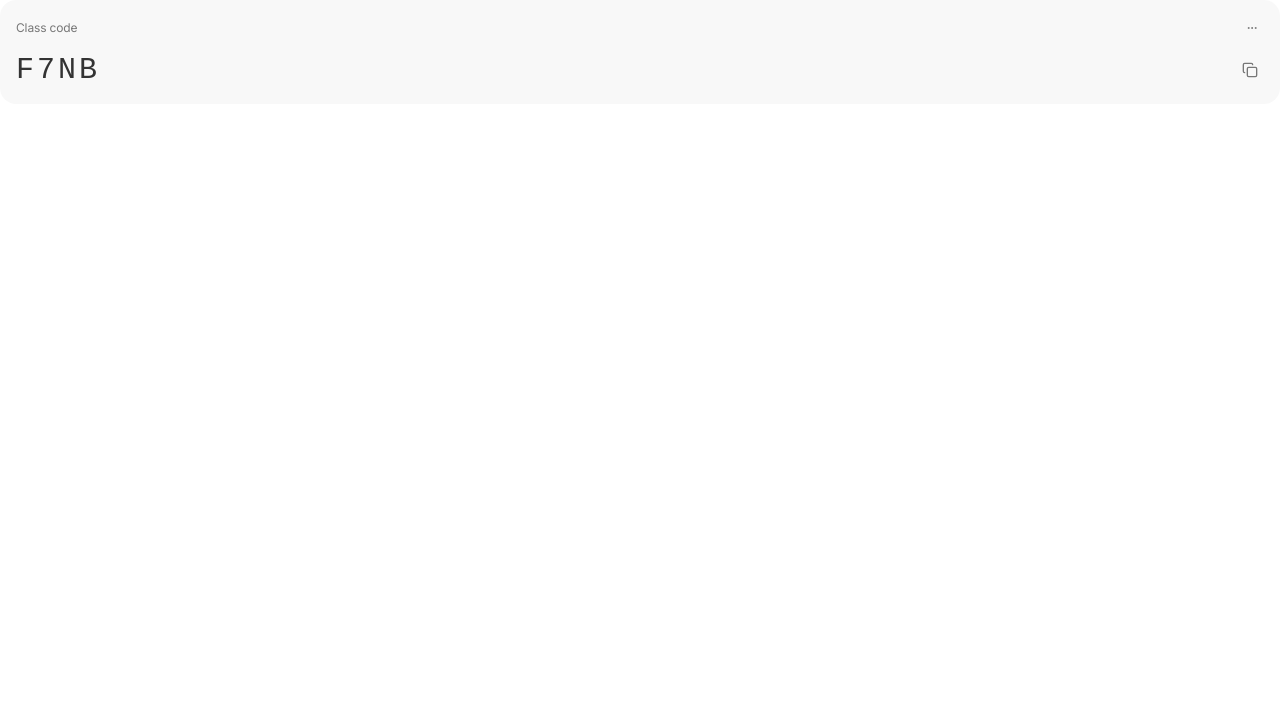
Test: Enrollment controls › requires confirmation before rotating the real code
Press ArrowDown in the button named "Class code options", box [1240,16,1264,40]
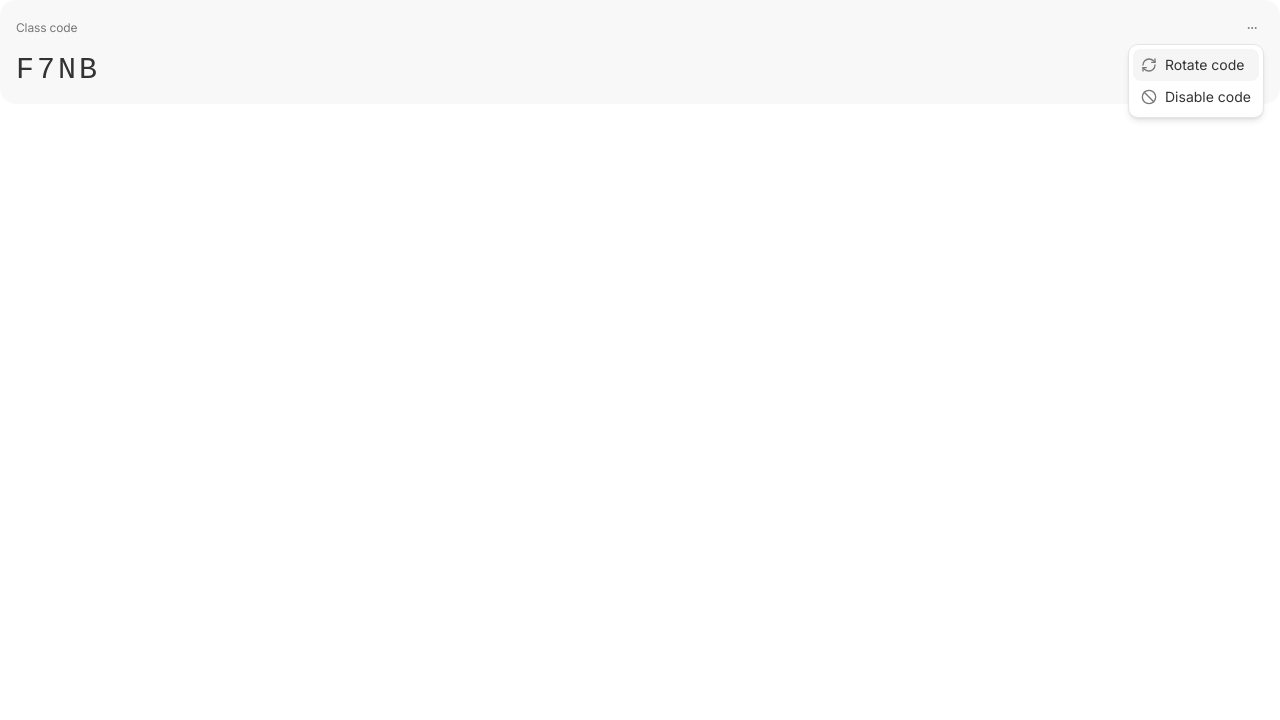
Expected: the menu item "Rotate code" is shown
Click the menu item "Rotate code". click: (1196, 65)
box: [1133,49,1259,81]
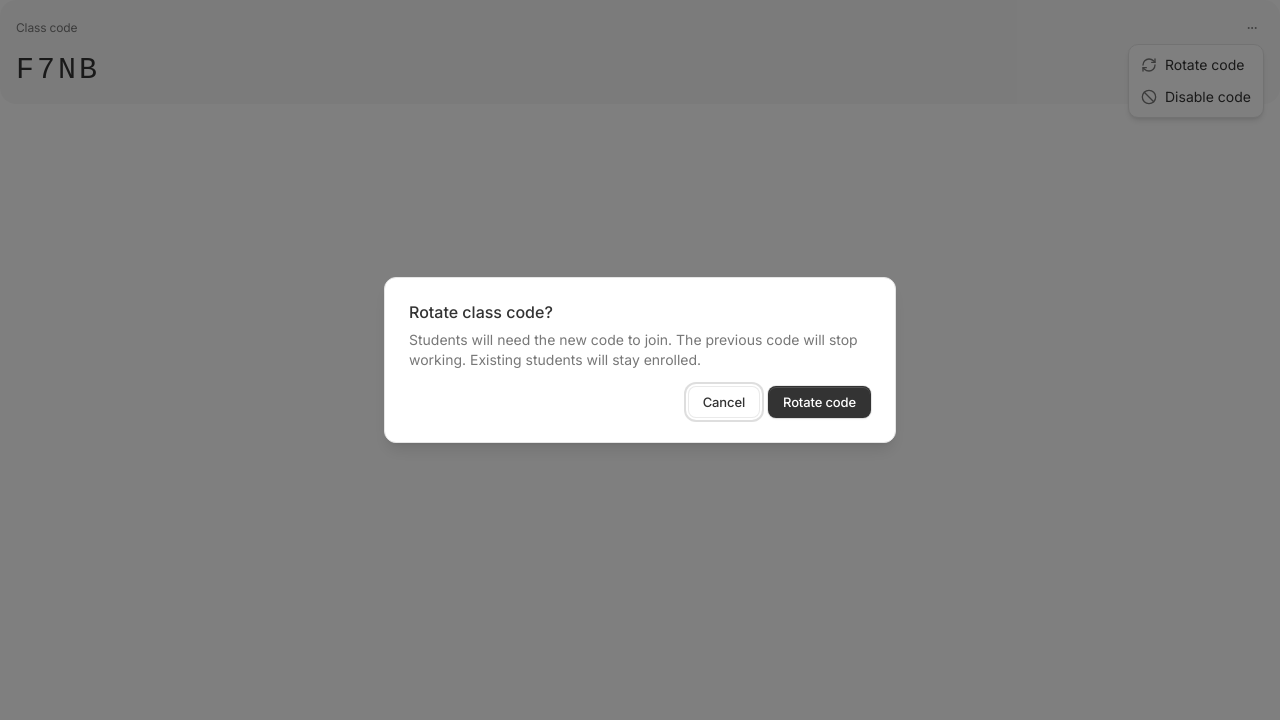
Click the button "Rotate code". click: (820, 402)
box: [768,386,871,418]
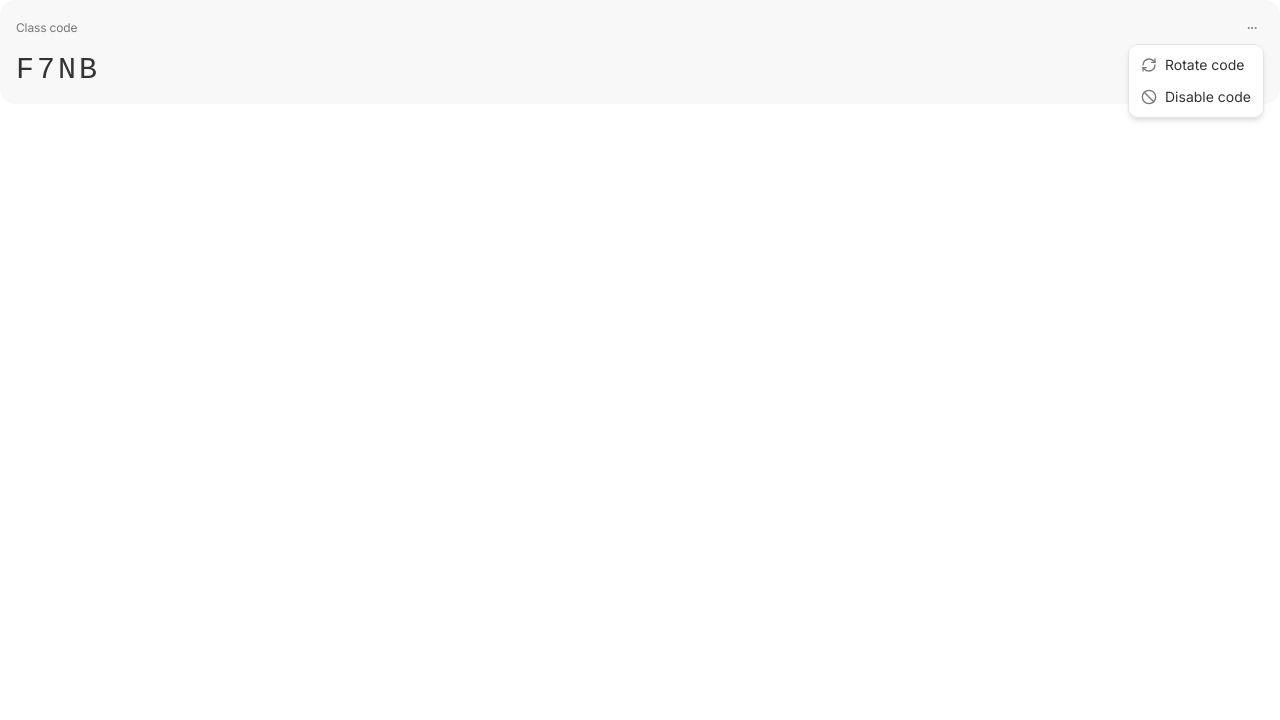
Expected: the dialog is gone
